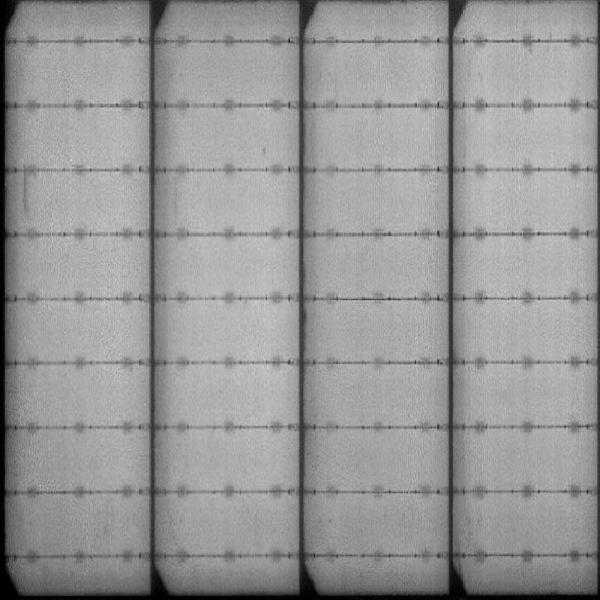scratch: (21, 161, 30, 213)
